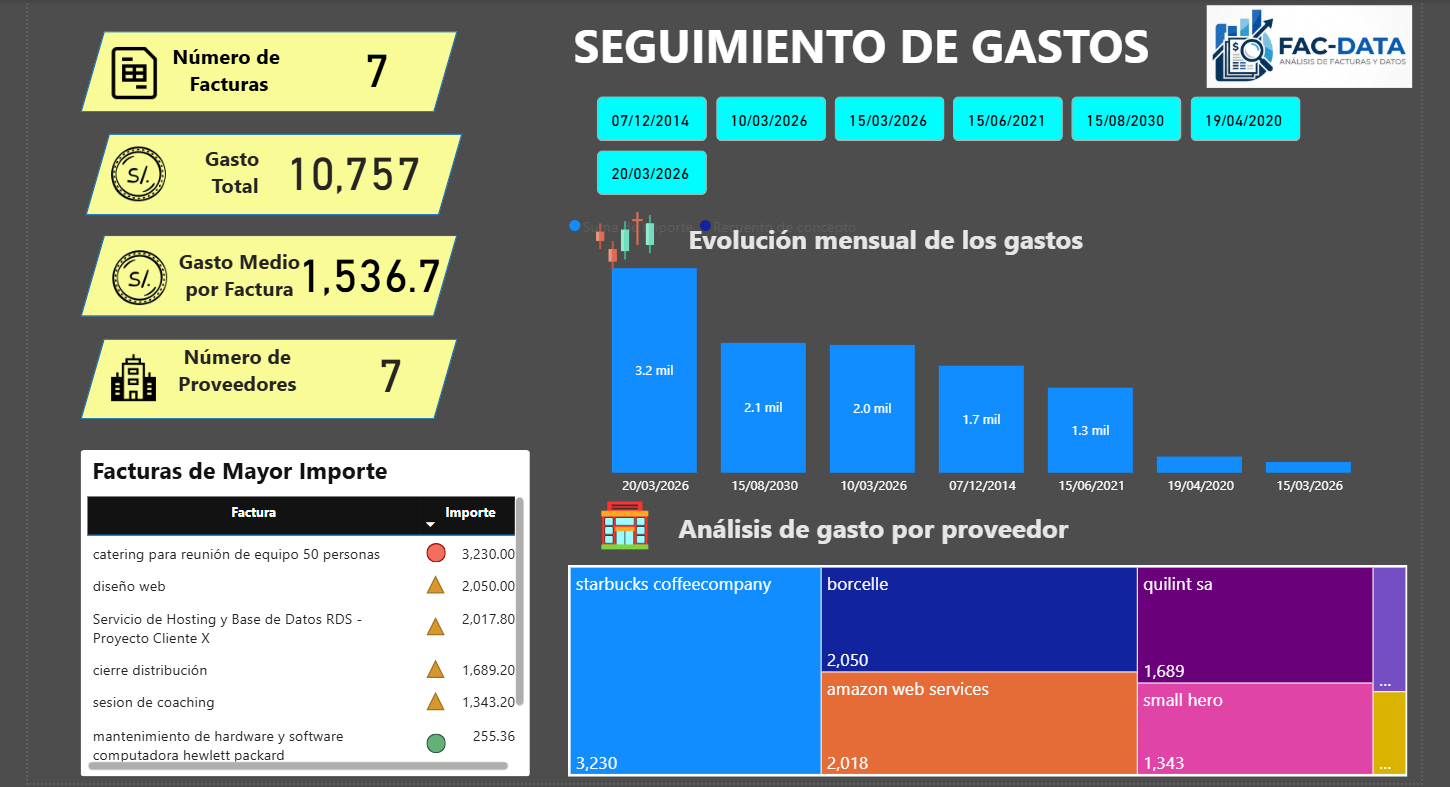

Layout of this report page (visuals, bound fields, positions):
{"tool":"powerbi","page":{"name":"SEGUIMIENTO DE GASTOS","canvas":[1280,720],"ordinal":0},"visuals":[{"type":"shape","box":[52.5,123.3,346.4,74.8],"z":0,"group":"g3"},{"type":"shape","box":[48.2,216.3,346.4,74.8],"z":0,"group":"g1"},{"type":"shape","box":[47.7,311,346.5,73.8],"z":0,"group":"g2"},{"type":"shape","box":[47.7,29.1,346.5,74.4],"z":1000},{"type":"card","fields":{"Values":["Sum(facturas.importe)"]},"box":[220.6,123.3,156.5,64.3],"z":1000,"group":"g3"},{"type":"textbox","box":[125.8,222.9,136,70.9],"z":1000,"group":"g1"},{"type":"card","fields":{"Values":["Count(facturas.proveedor)"]},"box":[298.8,309.3,66.2,63.5],"z":1000,"group":"g2"},{"type":"card","fields":{"Values":["CountNonNull(facturas.concepto)"]},"box":[285.8,29.1,68.7,64.3],"z":2000},{"type":"textbox","box":[131,127.7,118.6,67.4],"z":2000,"group":"g3"},{"type":"card","fields":{"Values":["Avg(facturas.importe)"]},"box":[239.8,217.4,147.8,63.7],"z":2000,"group":"g1"},{"type":"textbox","box":[106.2,310.1,170.9,69.8],"z":2000,"group":"g2"},{"type":"textbox","box":[113.8,34,136.7,64.3],"z":3000},{"type":"columnChart","fields":{"Category":["facturas.fecha_factura.Variación.Jerarquía de fechas.Mes"],"Y":["Sum(facturas.importe)","CountNonNull(facturas.concepto)"]},"box":[491.8,187.4,771.3,277.1],"z":4000},{"type":"group","id":"g1","title":"Grupo 1","box":[48.2,216.3,346.4,77.6],"z":5000},{"type":"group","id":"g2","title":"Grupo 2","box":[47.7,309.3,346.5,75.6],"z":6000},{"type":"group","id":"g3","title":"Grupo 4","box":[52.5,123.3,346.4,74.8],"z":7000},{"type":"treemap","fields":{"Group":["facturas.proveedor"],"Values":["Sum(facturas.importe)"]},"box":[496.7,518.7,771.3,194.2],"z":8000},{"type":"textbox","box":[496.7,6.8,588.2,76.1],"z":9000},{"type":"textbox","box":[601.9,198.8,396.5,45.2],"z":10000},{"type":"image","box":[514,183.7,70.9,75.6],"z":11000},{"type":"textbox","box":[592.6,464.5,396.5,45.2],"z":12000},{"type":"advancedSlicerVisual","fields":{"Values":["facturas.fecha_factura.Variación.Jerarquía de fechas.Mes"]},"box":[518.6,83.7,659.3,100],"z":13000},{"type":"image","box":[518.4,455.9,60.6,53.8],"z":14000},{"type":"shape","box":[48.2,413.2,413.2,300],"z":15000},{"type":"tableEx","fields":{"Values":["facturas.concepto","Sum(facturas.importe)"]},"box":[48.2,451.5,413.2,261.6],"z":16000},{"type":"textbox","box":[53.5,412.8,333.7,43],"z":17000},{"type":"image","box":[68,316.7,58.8,59.4],"z":18000},{"type":"image","box":[68.7,37.1,58.1,61.2],"z":19000},{"type":"image","box":[65.1,225.6,74.4,60.5],"z":20000},{"type":"image","box":[1075.6,0,204.7,86],"z":21000},{"type":"image","box":[64.1,130.3,74.4,60.5],"z":23001,"group":"g3"}]}

Visuals, with their boxes in screenshot pixels (x1, y1, x2, y2):
shape: 83,133,456,213
shape: 78,233,451,313
shape: 78,335,451,414
shape: 78,31,451,111
card - Sum(facturas.importe): 264,133,432,202
textbox: 162,240,308,316
card - Count(facturas.proveedor): 348,333,419,401
card - CountNonNull(facturas.concepto): 334,31,408,100
textbox: 167,137,295,210
card - Avg(facturas.importe): 284,234,443,302
textbox: 141,334,325,409
textbox: 149,37,296,106
columnChart - facturas.fecha_factura.Variación.Jerarquía de fechas.Mes x Sum(facturas.importe): 555,202,1385,500
"Grupo 1" group: 78,233,451,316
"Grupo 2" group: 78,333,451,414
"Grupo 4" group: 83,133,456,213
treemap - facturas.proveedor x Sum(facturas.importe): 561,558,1391,767
textbox: 561,7,1194,89
textbox: 674,214,1100,262
image: 579,198,656,279
textbox: 664,500,1090,548
advancedSlicerVisual - facturas.fecha_factura.Variación.Jerarquía de fechas.Mes: 584,90,1294,198
image: 584,490,649,548
shape: 78,445,523,767
tableEx - facturas.concepto x Sum(facturas.importe): 78,486,523,767
textbox: 84,444,443,490
image: 100,341,163,405
image: 100,40,163,106
image: 96,243,177,308
image: 1184,0,1404,93
image: 95,140,175,205
